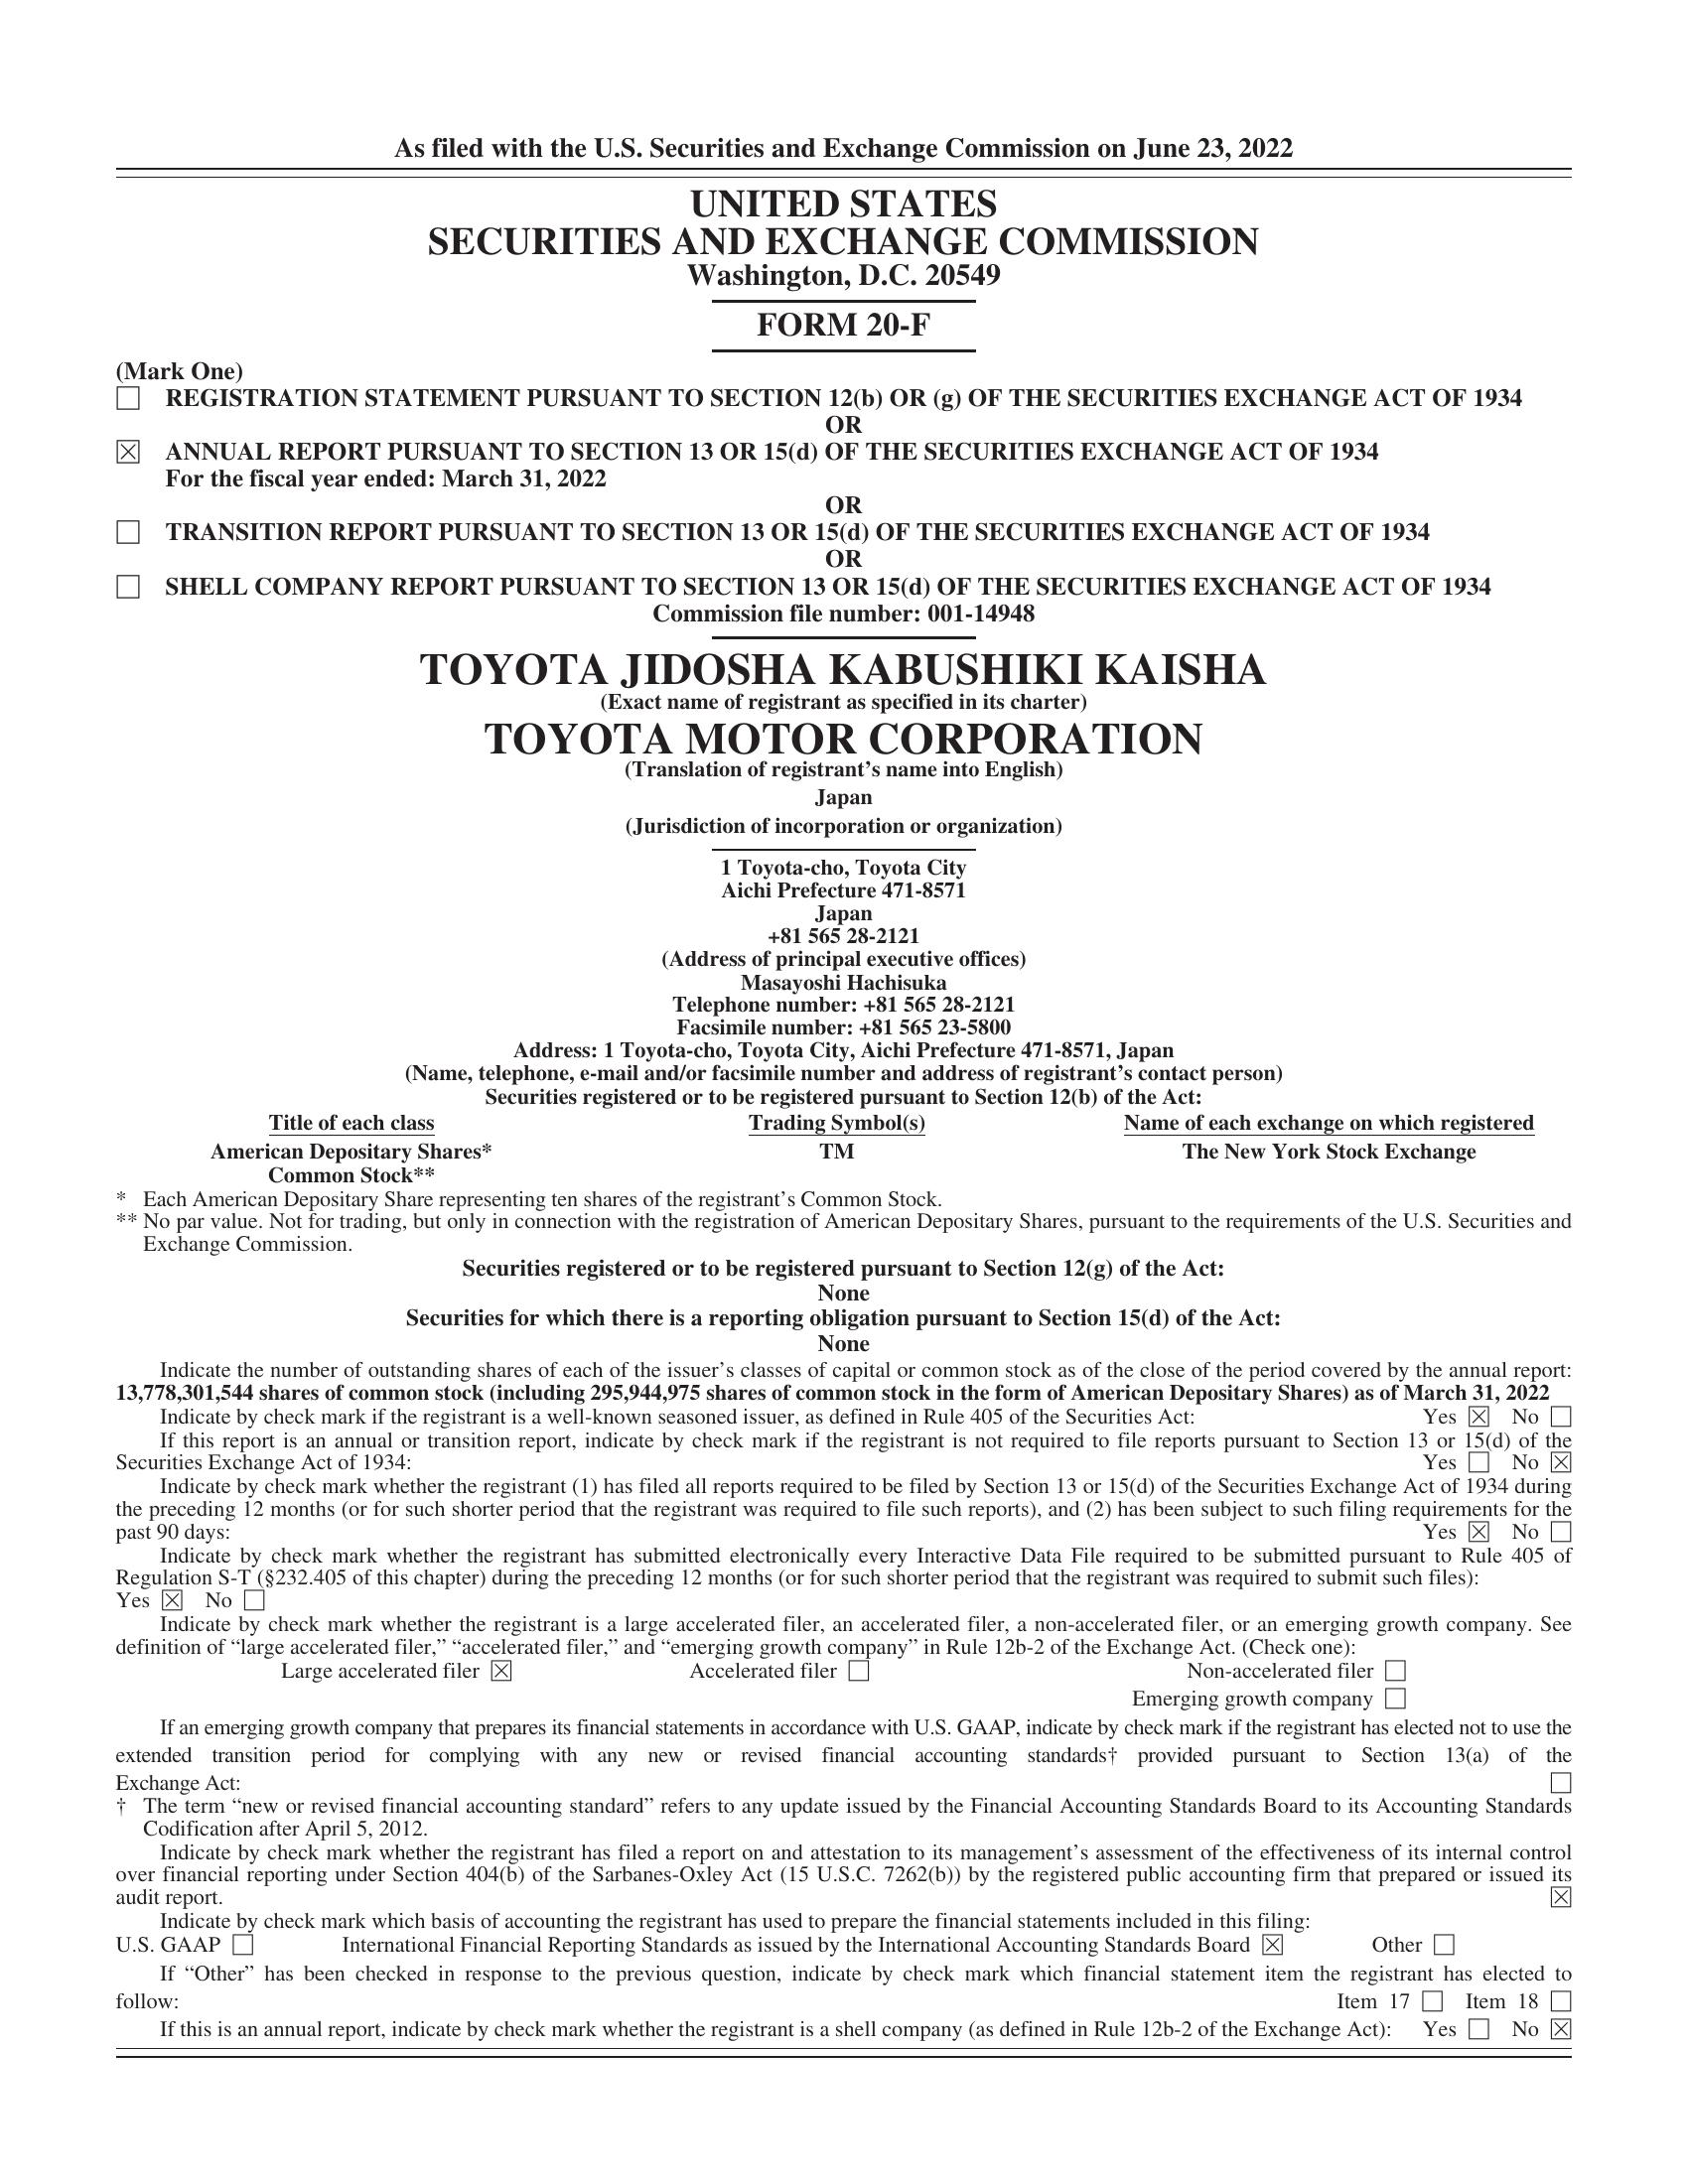Header: (0, 0, 1688, 183)
